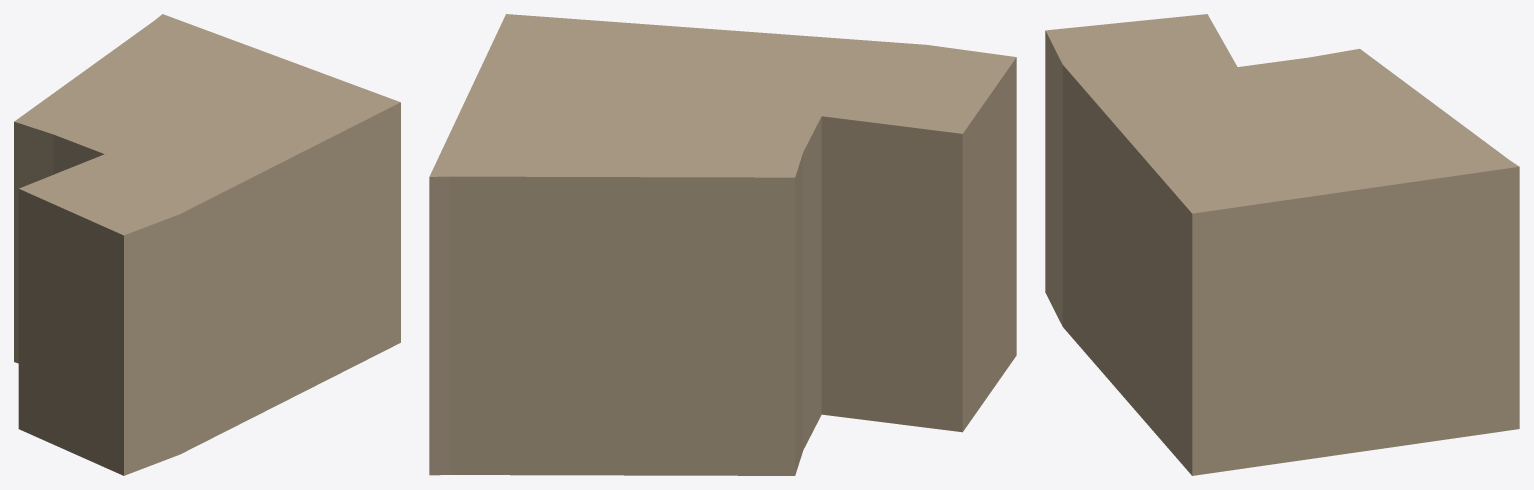
Rendered from bld_99520334.dae.
The picture shows the model from 3 angles, left to right: view 1: azimuth 30°, elevation 25°; view 2: azimuth 150°, elevation 25°; view 3: azimuth 270°, elevation 25°; orthographic projection. The views are drawn at different scales.
Visible parts, largest first — view 1: bld_99520334; view 2: bld_99520334; view 3: bld_99520334.
Part boxes in pixels (x1,y1,x2,y2): bld_99520334: (14,14,400,475); bld_99520334: (429,14,1016,475); bld_99520334: (1045,14,1519,475).
Size of the model in its own units: 13.06 by 13.1 by 8.
